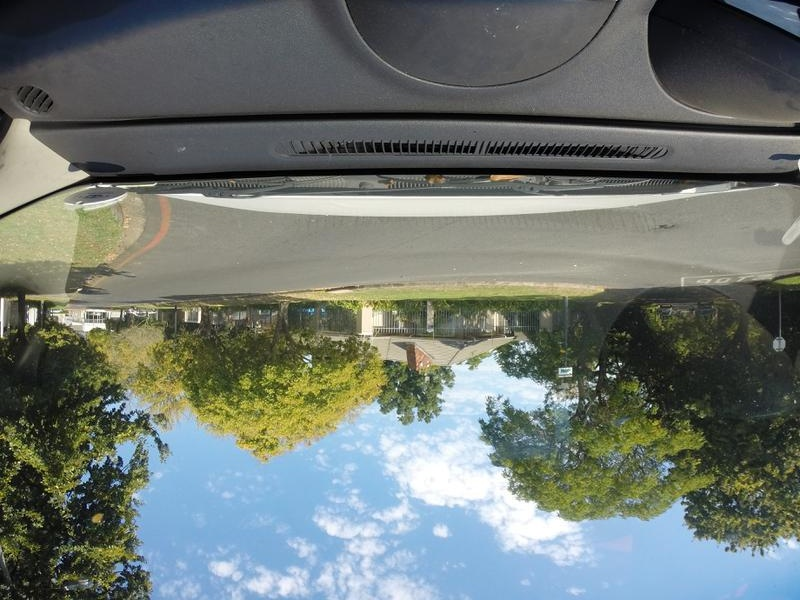pothole: (657, 222, 672, 229)
